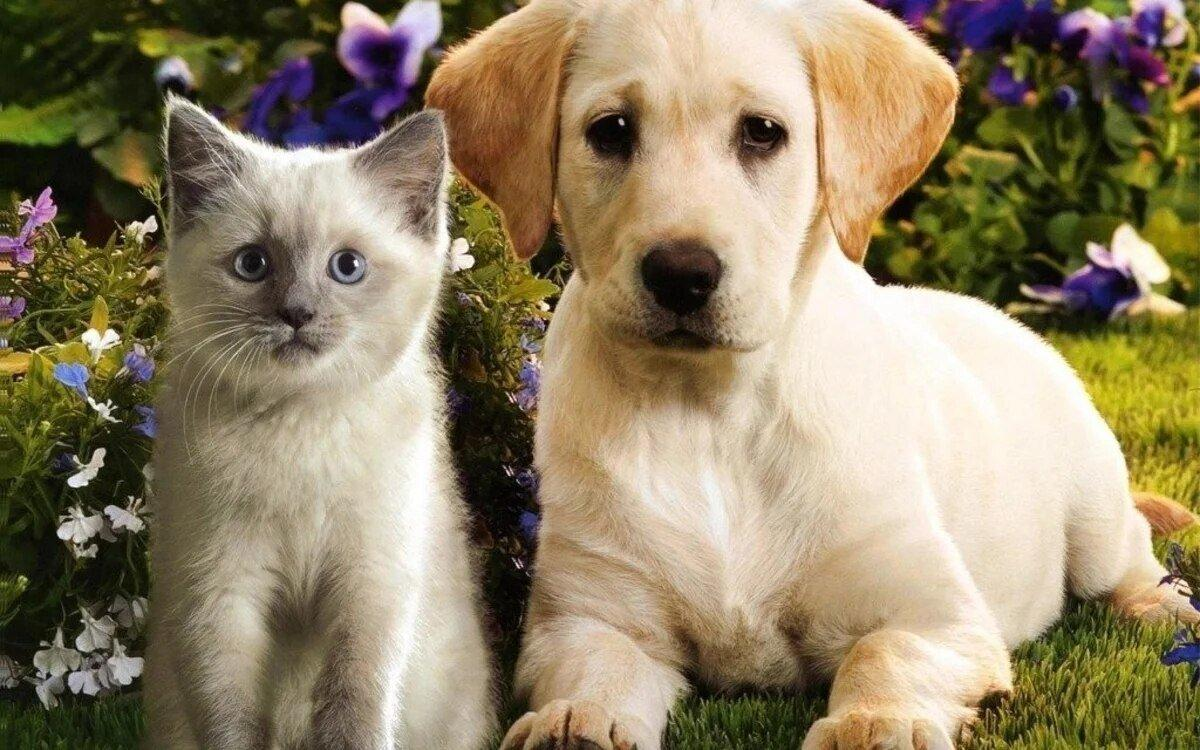animals: (446, 0, 1200, 712), (156, 97, 499, 750)
